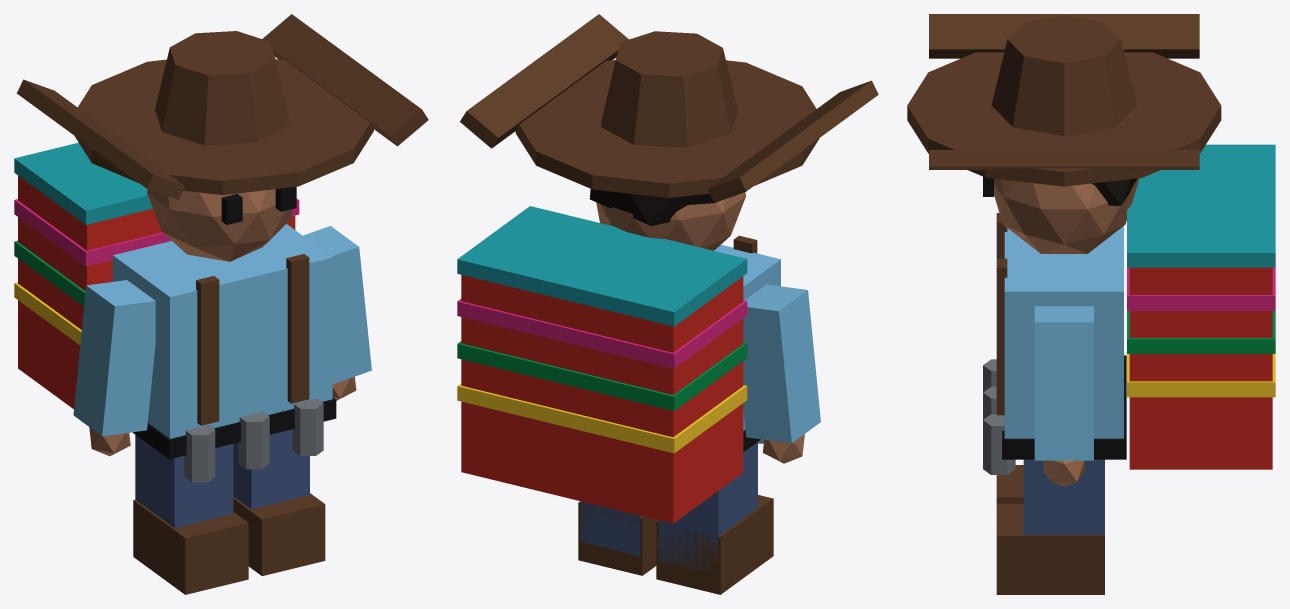
The model's file is Org Contrabandista.fbx.
3 renders of one model, left to right at view 1: azimuth 30°, elevation 25°; view 2: azimuth 150°, elevation 25°; view 3: azimuth 270°, elevation 25°, orthographic. The views are drawn at different scales.
Parts seen in each view (by area): view 1: Org Contrabandista; view 2: Org Contrabandista; view 3: Org Contrabandista.
Boxes of the visible parts, left/top/right/bottom form: Org Contrabandista: left=14, top=14, right=428, bottom=594; Org Contrabandista: left=457, top=14, right=878, bottom=594; Org Contrabandista: left=907, top=14, right=1275, bottom=594.
Bounding box in the file's own units: 0.6243 × 1.06 × 0.6805.
